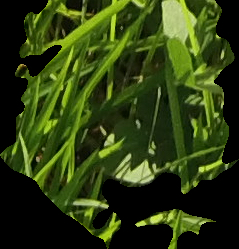grass: (1, 1, 238, 248)
